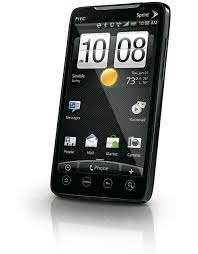htc: (42, 1, 174, 204)
